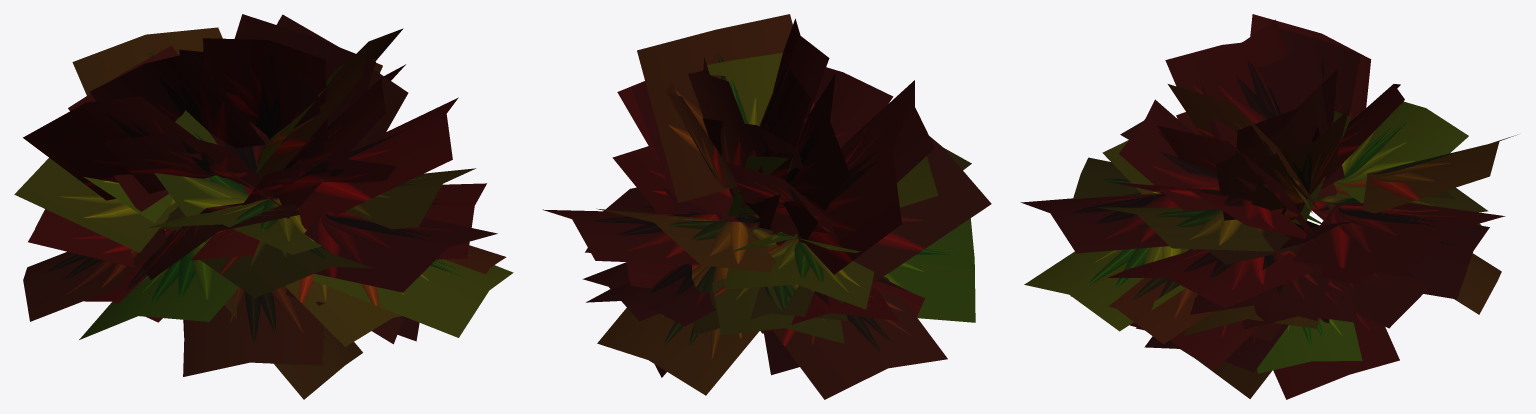
The model's file is veg_bush2_far.glb.
3 renders of one model, left to right at view 1: azimuth 30°, elevation 25°; view 2: azimuth 150°, elevation 25°; view 3: azimuth 270°, elevation 25°, orthographic. The views are drawn at different scales.
Parts seen in each view (by area): view 1: bush_2; view 2: bush_2; view 3: bush_2.
Part boxes in pixels (<box>): bush_2: <box>14,14,513,399</box>; bush_2: <box>542,14,991,399</box>; bush_2: <box>1020,14,1517,399</box>.
Bounding box in the file's own units: 3.23 × 2.58 × 3.74.
Materials: 1 (1 with a texture image).
